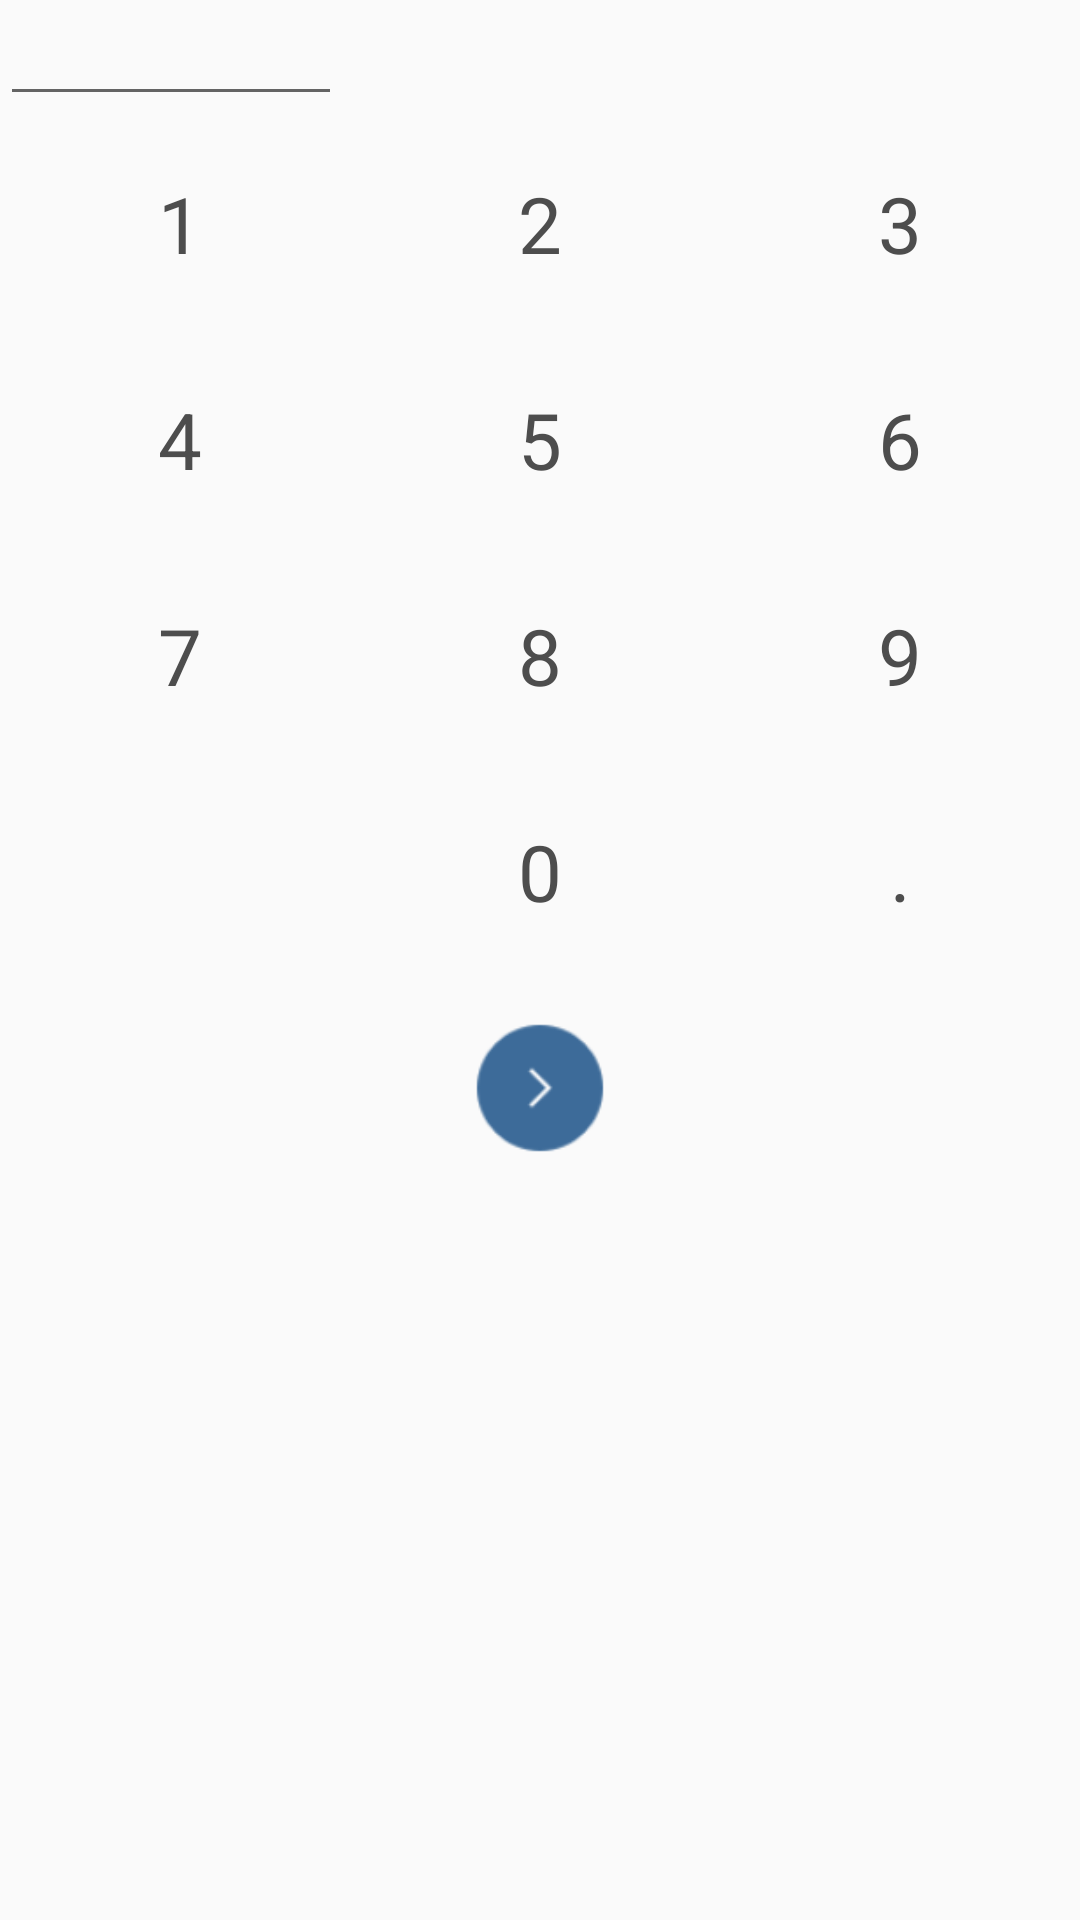

Locate icon controls on the screen. Image size 1080x1920, boxes as [x1,y1,x2,y2].
next: [476,1024,604,1152]
